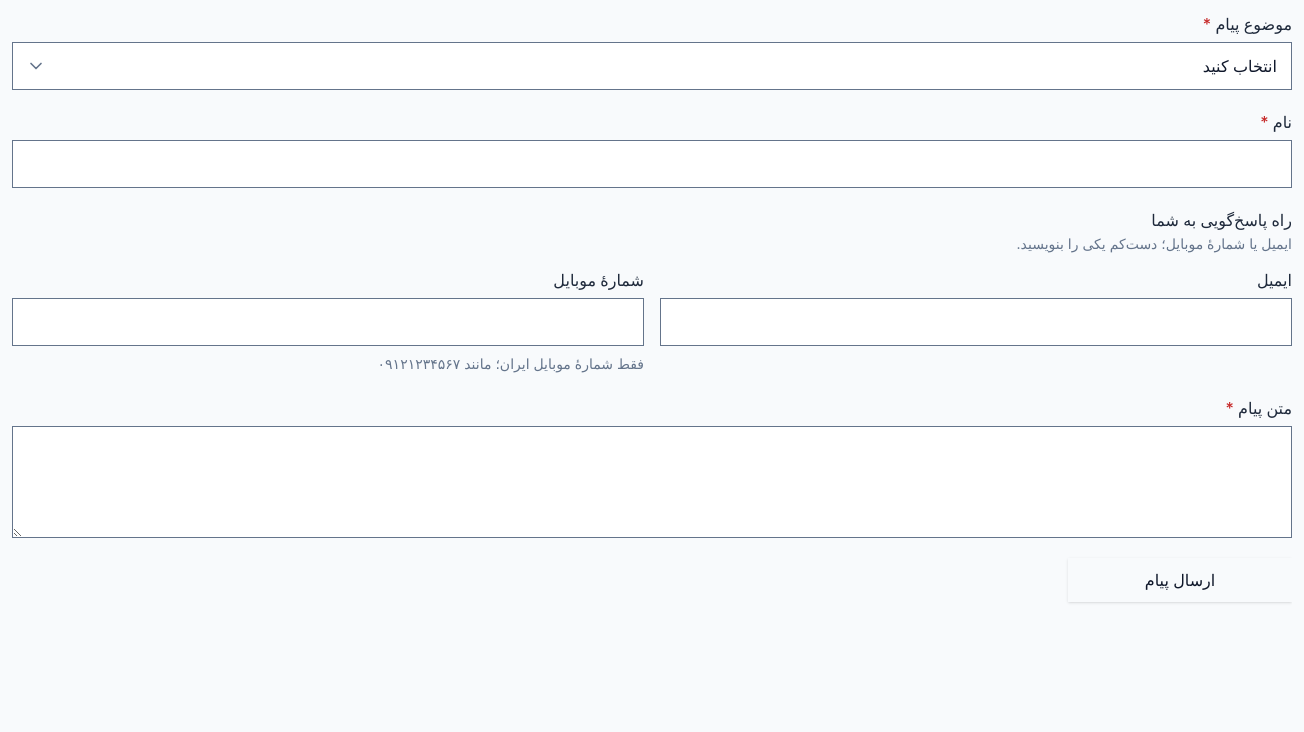
Test: before sending › without e-mail and phone: the API’s sentence under both, the focus on e-mail, nothing sent
Select "انتقاد و شکایت" in the dropdown labelled "موضوع پیام *": x=652, y=66 x1=12 y1=42 x2=1292 y2=90
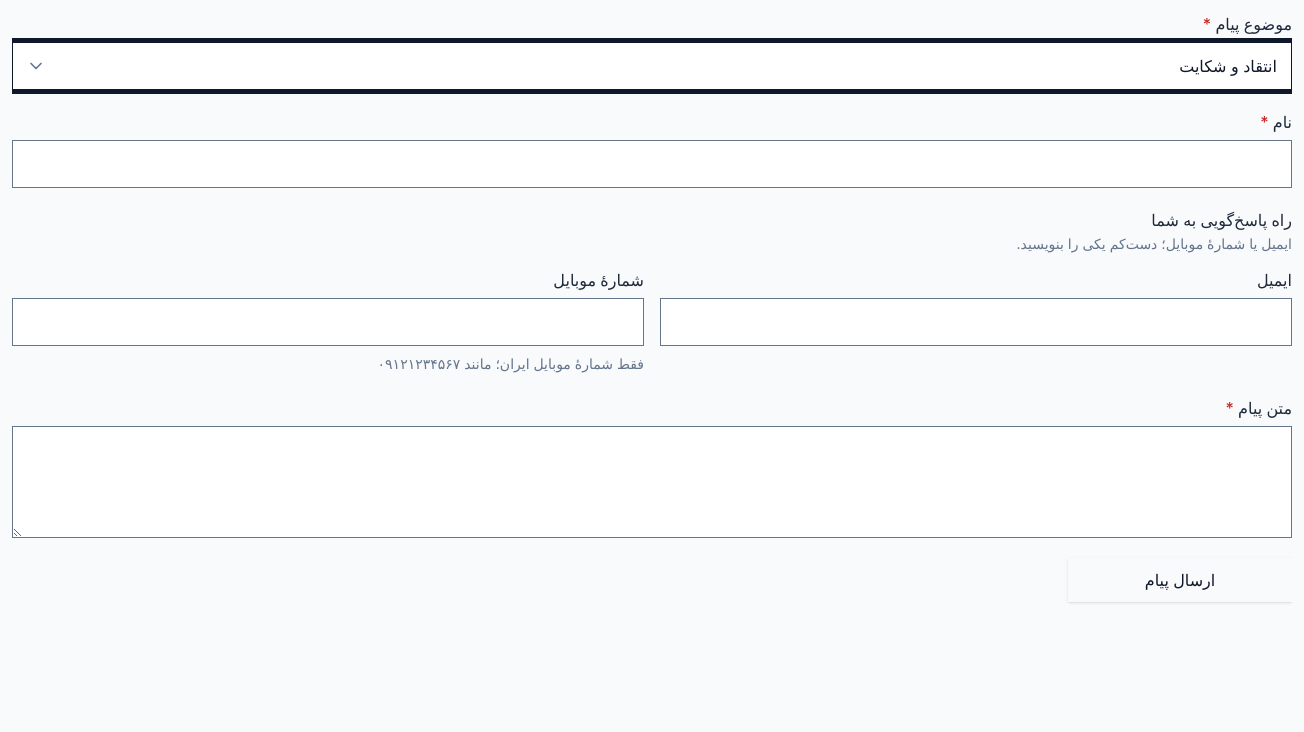
In the field labelled "نام *": x=652, y=164 x1=13 y1=141 x2=1291 y2=187, type "سارا احمدی"
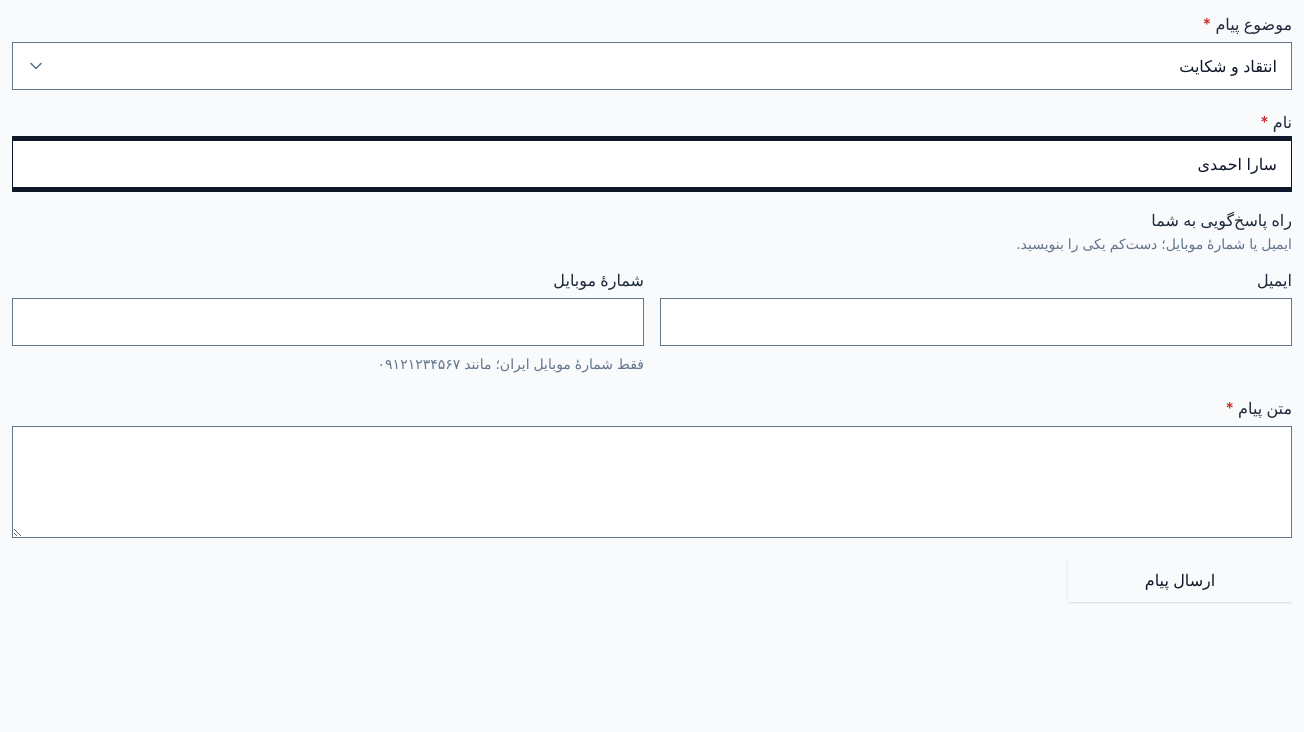
In the text box labelled "متن پیام *": x=652, y=482 x1=12 y1=426 x2=1292 y2=538, type "سفارش ۸۴۹۲۳۷۰ هنوز نرسیده است."
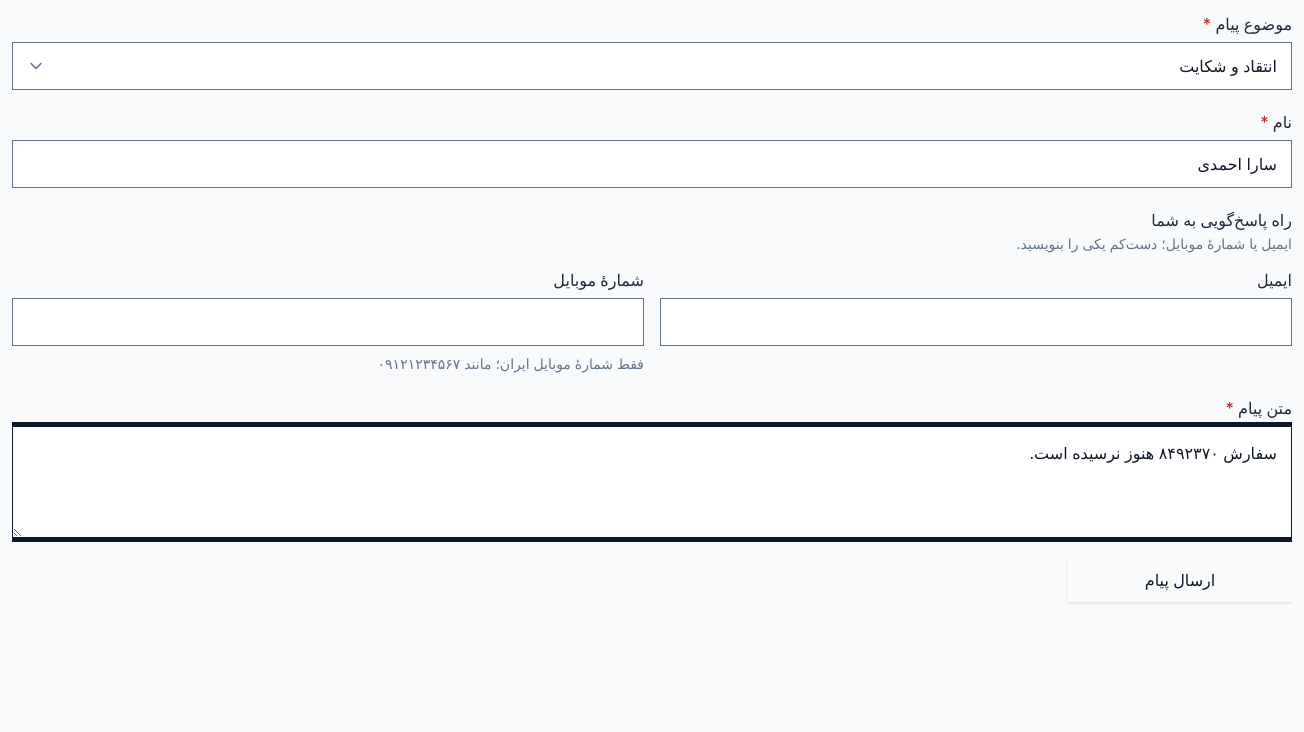
Click the button "ارسال پیام": x=1180, y=580 x1=1068 y1=558 x2=1292 y2=602
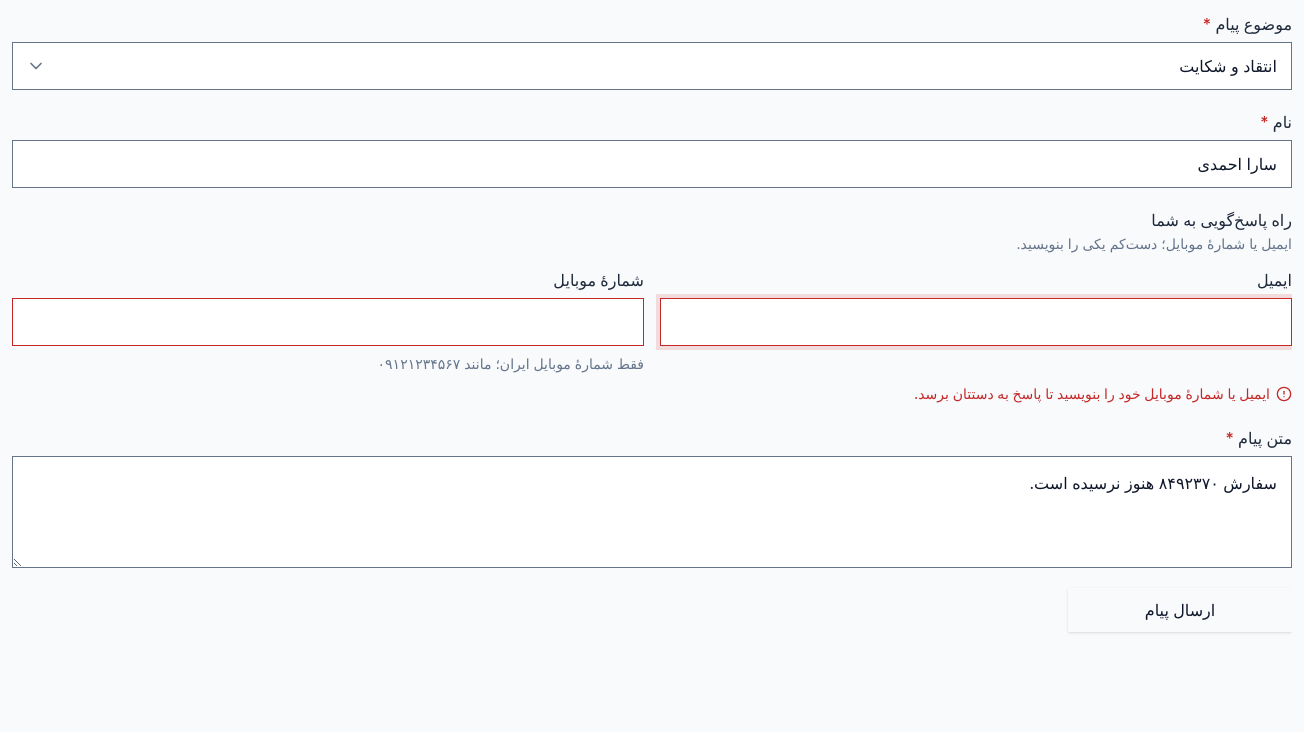
Expected: the text "ایمیل یا شمارهٔ موبایل خود را بنویسید تا پاسخ به دستتان برسد." is shown, x1=914 y1=382 x2=1270 y2=406
